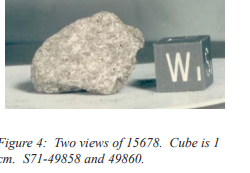Basalt: (23, 5, 152, 109)
